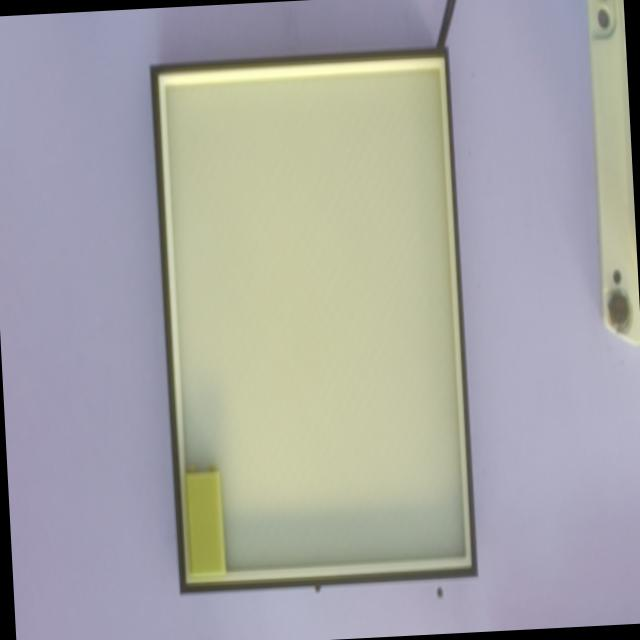bateria: (183, 462, 226, 572)
mesa: (150, 48, 477, 592)
